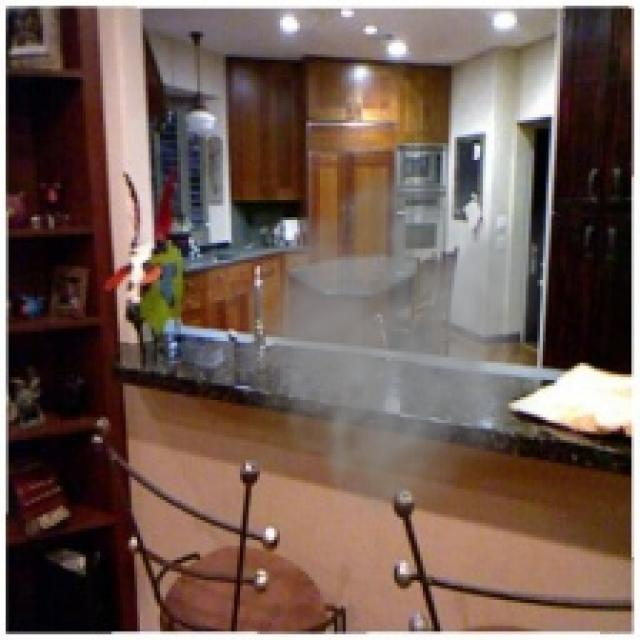smoke: (203, 135, 548, 534)
